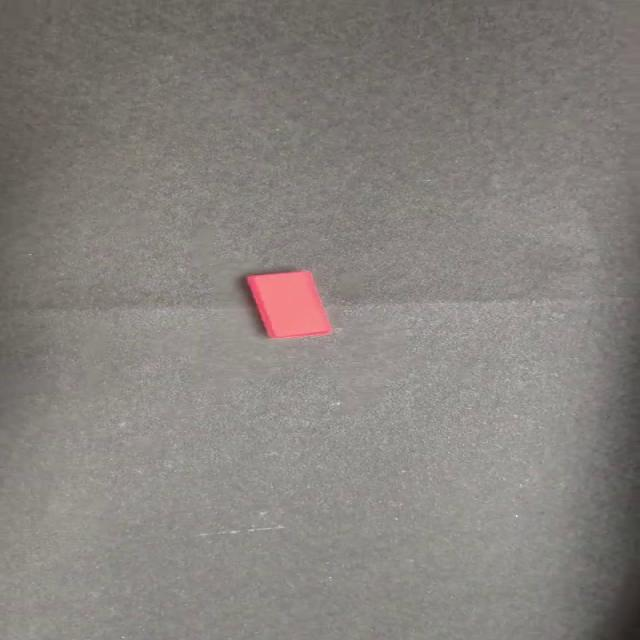red block: (244, 269, 332, 338)
